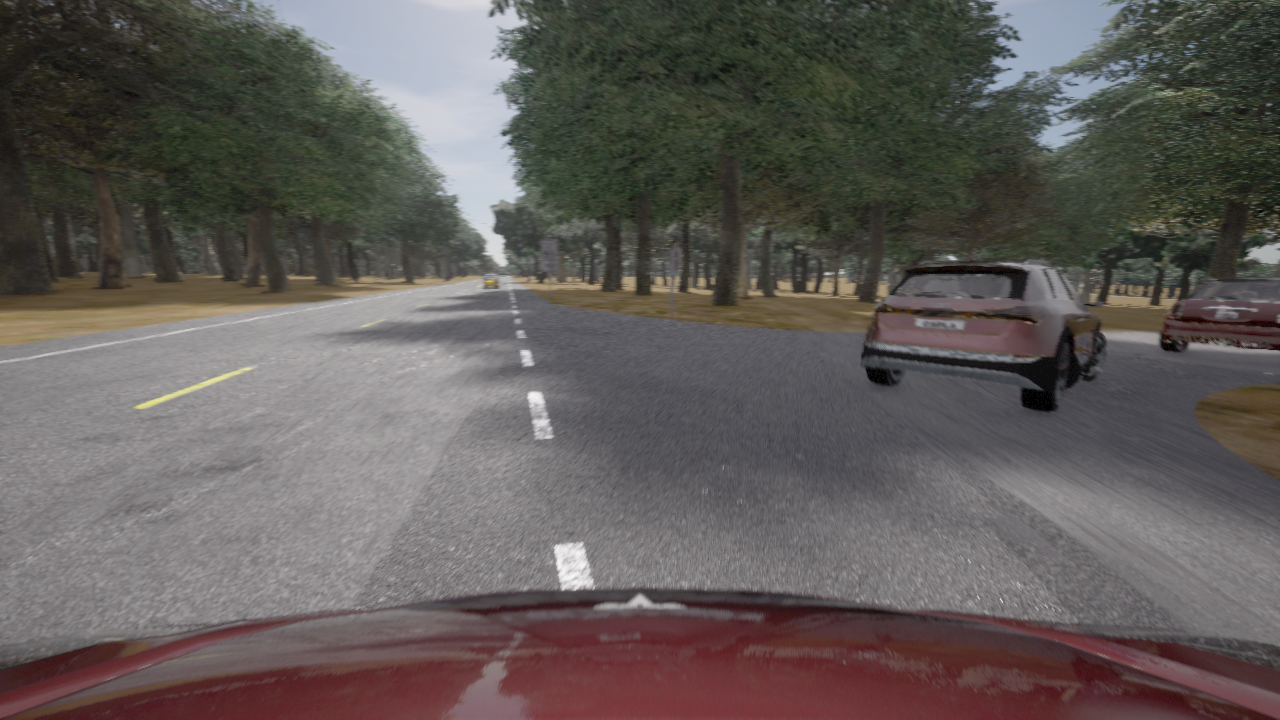cyclist: (0, 588, 1279, 719), (861, 256, 1105, 411), (1159, 271, 1279, 352), (483, 273, 498, 288)
